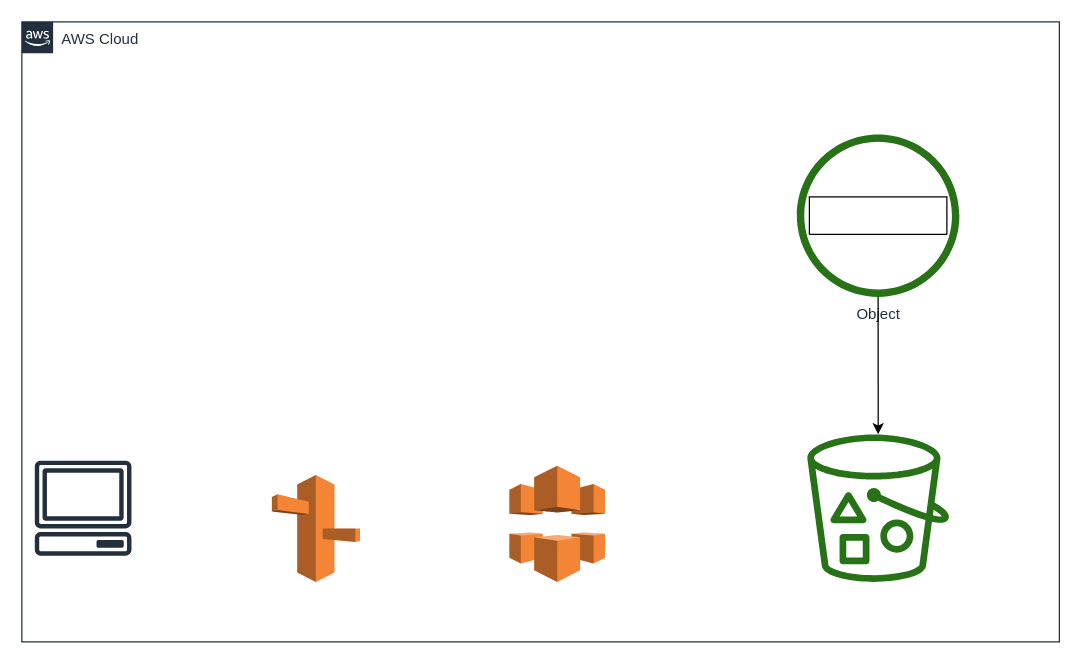
The diagram is 1081 pixels wide and 664 high, and some of its shapes have lost their labels. The shapes that lost their labels are listed below. From the top down, each one's centre as x and y in pixels, then its label:
At pixel 877 215: "INDEX.HTML".
At pixel 877 507: "Bucket".
